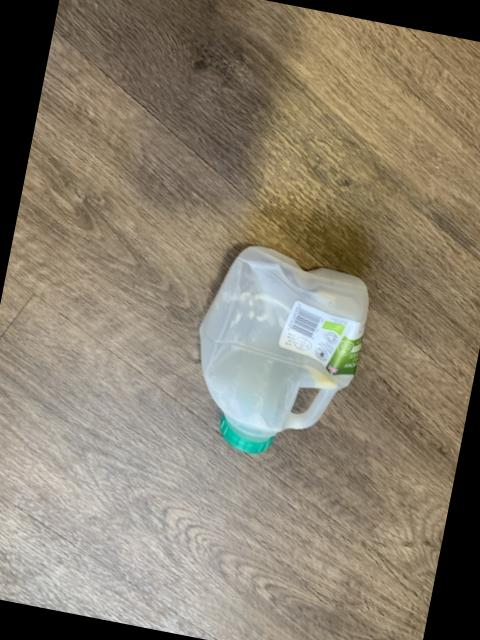plastic: (199, 247, 368, 453)
